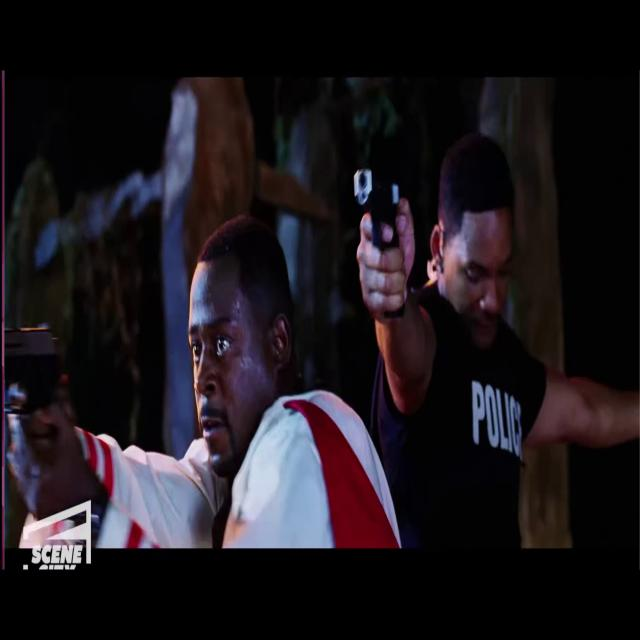weapons: (1, 309, 76, 471), (348, 160, 406, 277)
